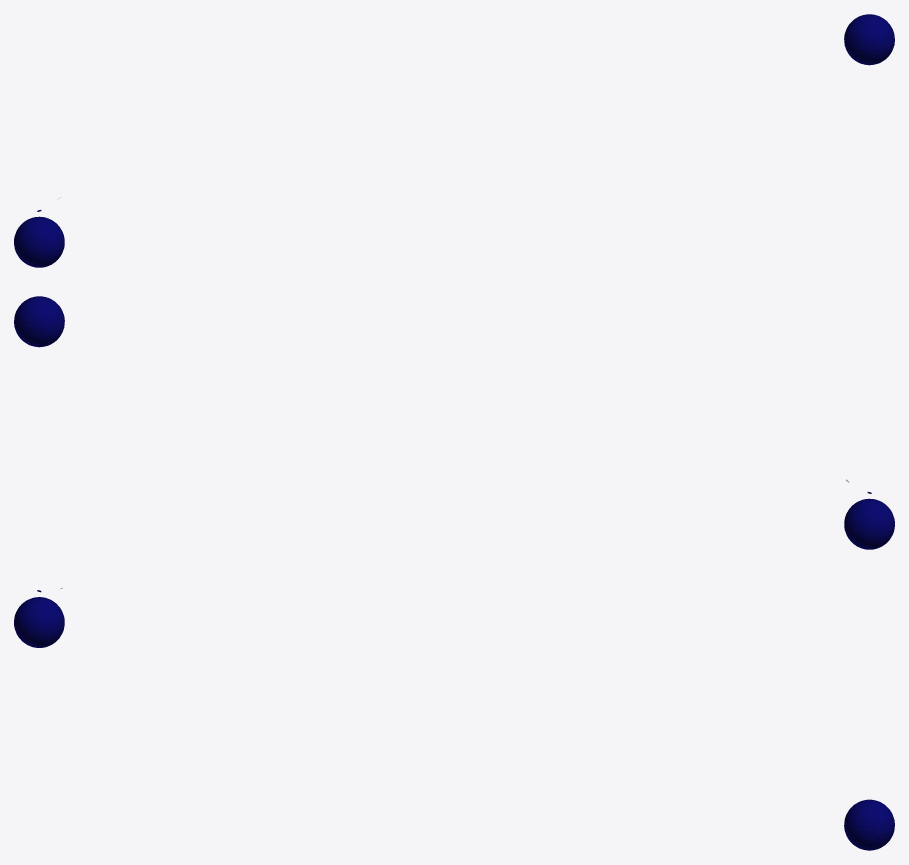
The model's file is morfanimation.glb.
3 views of the same model, one above another, from view 1: azimuth 30°, elevation 25°; view 2: azimuth 150°, elevation 25°; view 3: azimuth 330°, elevation 25° (orthographic).
Parts seen in each view (by area): view 1: SurfSphere, Sphere.001; view 2: SurfSphere, Sphere.001; view 3: SurfSphere, Sphere.001.
Part boxes in pixels (x1,y1,x2,y2): SurfSphere: (14, 216, 64, 267); Sphere.001: (844, 14, 894, 65); SurfSphere: (844, 498, 894, 549); Sphere.001: (14, 296, 64, 347); SurfSphere: (14, 597, 64, 647); Sphere.001: (844, 799, 894, 850).
Bounding box in the file's own units: 39.59 × 3.15 × 2.
